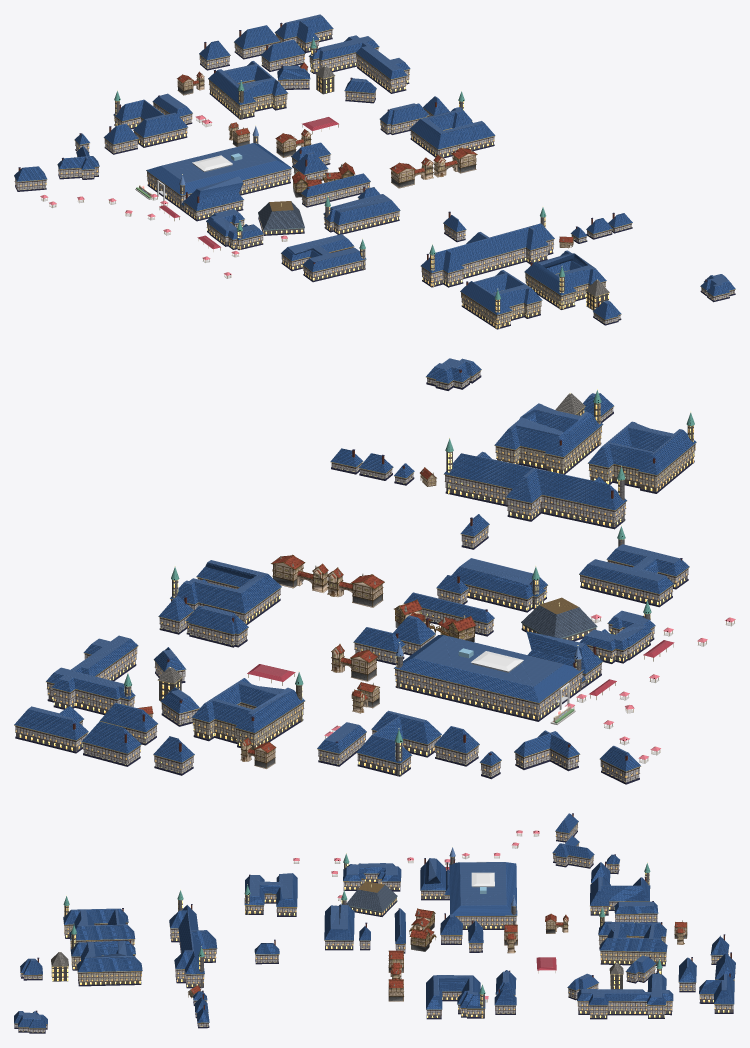
The model's file is campus-fantasy.glb.
3 views of the same model, one above another, from view 1: azimuth 30°, elevation 25°; view 2: azimuth 150°, elevation 25°; view 3: azimuth 270°, elevation 25° (orthographic). The views are drawn at different scales.
Visible parts, largest first — view 1: b_way_454535317, b_way_868488566, b_relation_11863060, b_way_868488590, b_relation_11863062, b_relation_11863061, b_way_454535302, b_way_454535300, b_way_868488580, b_way_454535314, b_way_454535316, b_way_454535311 (+18 smaller); view 2: b_way_454535317, b_way_868488566, b_relation_11863062, b_relation_11863061, b_relation_11863060, b_way_868488590, b_way_454535300, b_way_454535302, b_way_868488580, b_way_454535314, b_way_454535311, b_way_454535301 (+23 smaller); view 3: b_way_454535317, b_relation_11863061, b_way_868488590, b_relation_11863062, b_way_868488566, b_way_454535302, b_relation_11863060, b_way_454535300, b_way_868488580, b_way_454535301, b_way_454535314, b_way_454535315 (+20 smaller).
Boxes of the visible parts, x1,y1,x2,y2 form: b_way_454535317: (146, 125, 292, 209); b_way_868488566: (420, 206, 554, 287); b_relation_11863060: (460, 270, 542, 329); b_way_868488590: (308, 35, 410, 93); b_relation_11863062: (208, 61, 288, 119); b_relation_11863061: (524, 250, 606, 309); b_way_454535302: (410, 90, 495, 158); b_way_454535300: (281, 234, 366, 282); b_way_868488580: (113, 90, 188, 147); b_way_454535314: (323, 194, 400, 234); b_way_454535316: (183, 176, 243, 221); b_way_454535311: (389, 147, 477, 188); b_way_454535317: (393, 635, 583, 721); b_way_868488566: (443, 437, 627, 529); b_relation_11863062: (191, 671, 305, 749); b_relation_11863061: (494, 389, 603, 474); b_relation_11863060: (587, 411, 696, 493); b_way_868488590: (46, 635, 138, 714); b_way_454535300: (579, 525, 689, 607); b_way_454535302: (170, 560, 281, 624); b_way_868488580: (356, 710, 441, 776); b_way_454535314: (451, 558, 548, 612); b_way_454535311: (271, 554, 384, 607); b_way_454535301: (579, 599, 655, 663); b_way_454535317: (449, 846, 517, 929); b_relation_11863061: (70, 924, 142, 986); b_way_868488590: (577, 958, 673, 1019); b_relation_11863062: (598, 906, 667, 966); b_way_868488566: (169, 889, 217, 988); b_way_454535302: (426, 975, 485, 1019); b_relation_11863060: (63, 895, 135, 948); b_way_454535300: (244, 873, 297, 916); b_way_868488580: (590, 862, 650, 915); b_way_454535301: (343, 852, 401, 891); b_way_454535314: (324, 889, 354, 950); b_way_454535315: (346, 881, 397, 916).
Bounding box in the file's own units: 353 × 33.26 × 527.
Materials: 40 (20 with a texture image).
